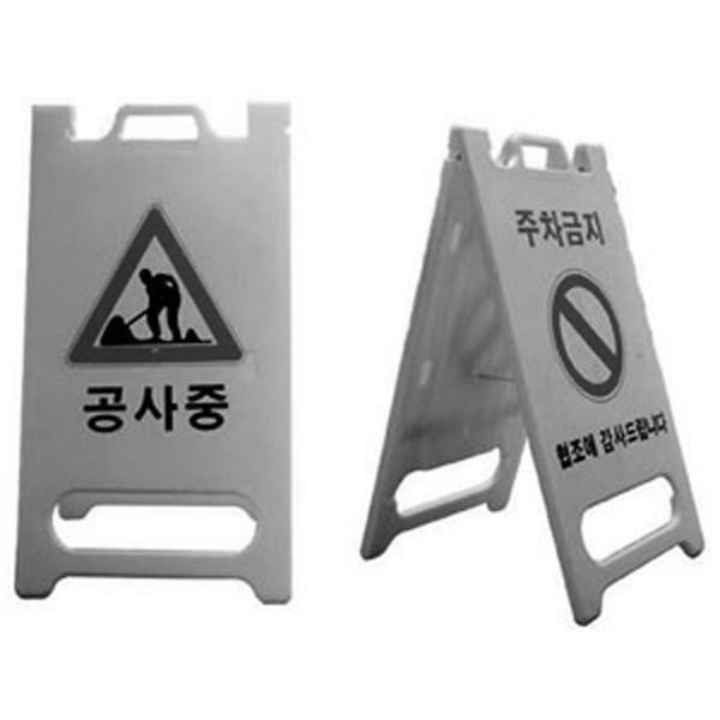const: (92, 248, 239, 351)
